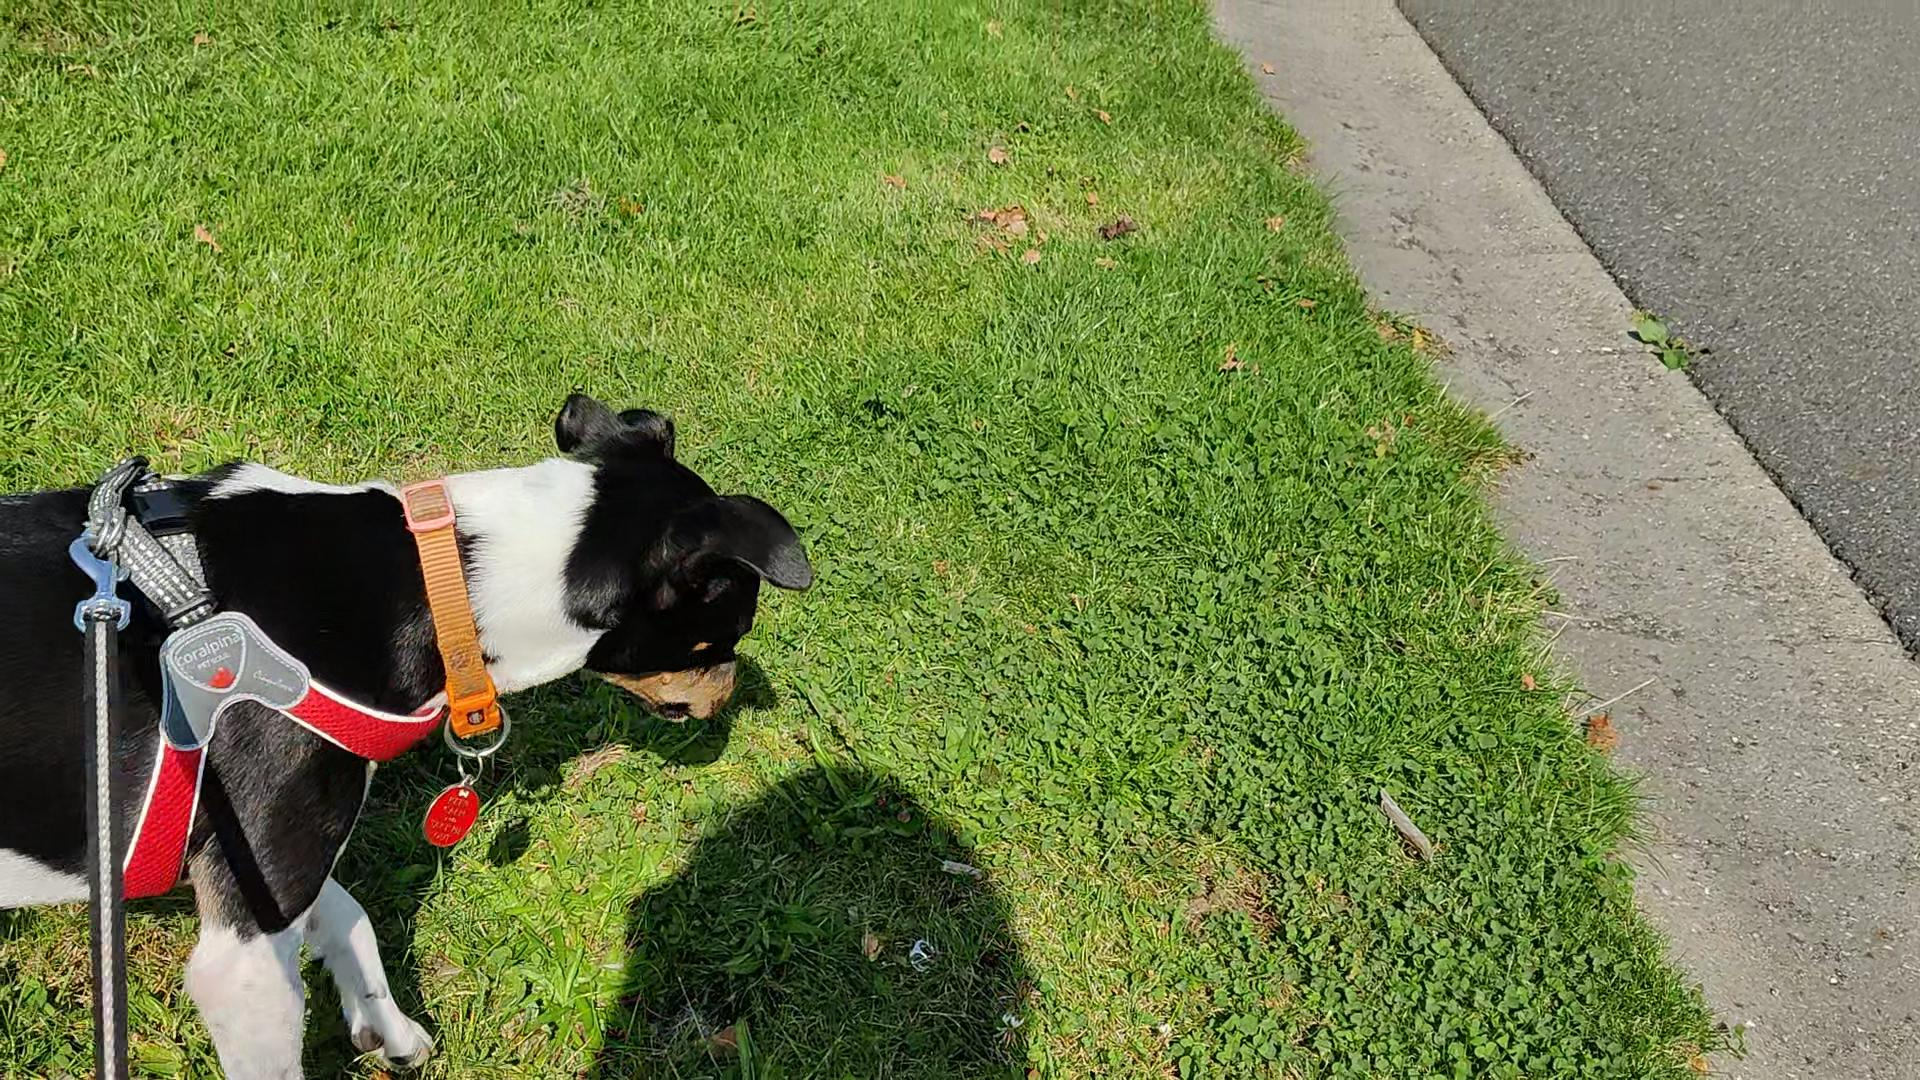Dog: (0, 380, 825, 1079)
